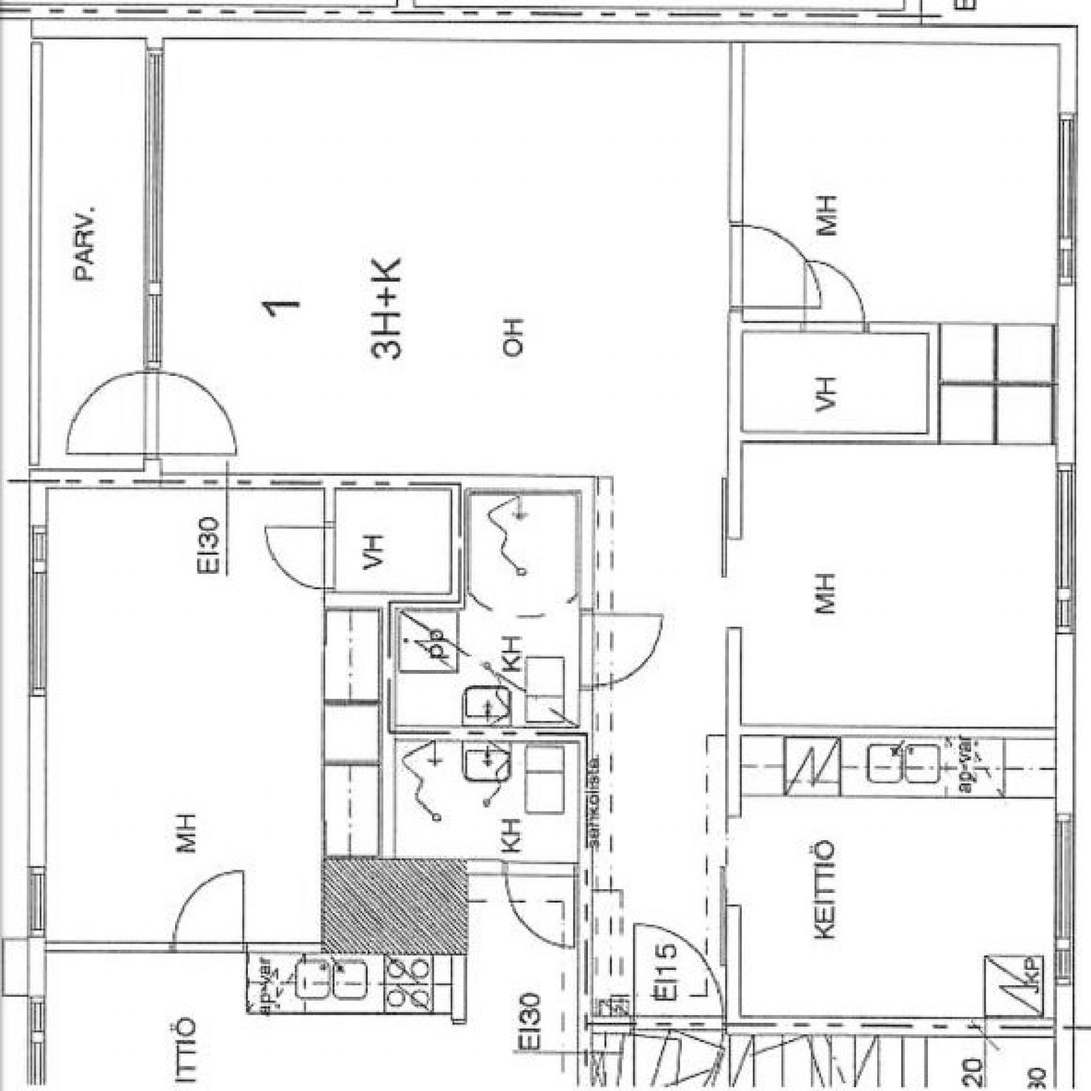wall: (1054, 19, 1073, 1035), (145, 19, 1073, 38), (728, 19, 742, 1035), (577, 1016, 1073, 1035), (145, 19, 164, 490), (145, 474, 466, 490), (578, 726, 592, 1035), (579, 474, 593, 727), (728, 728, 1073, 738), (381, 727, 593, 742), (728, 322, 939, 334), (728, 431, 939, 443), (28, 470, 145, 490), (28, 19, 145, 38), (380, 594, 395, 742), (465, 474, 592, 489), (451, 474, 465, 609), (928, 322, 939, 443), (381, 594, 465, 609)
